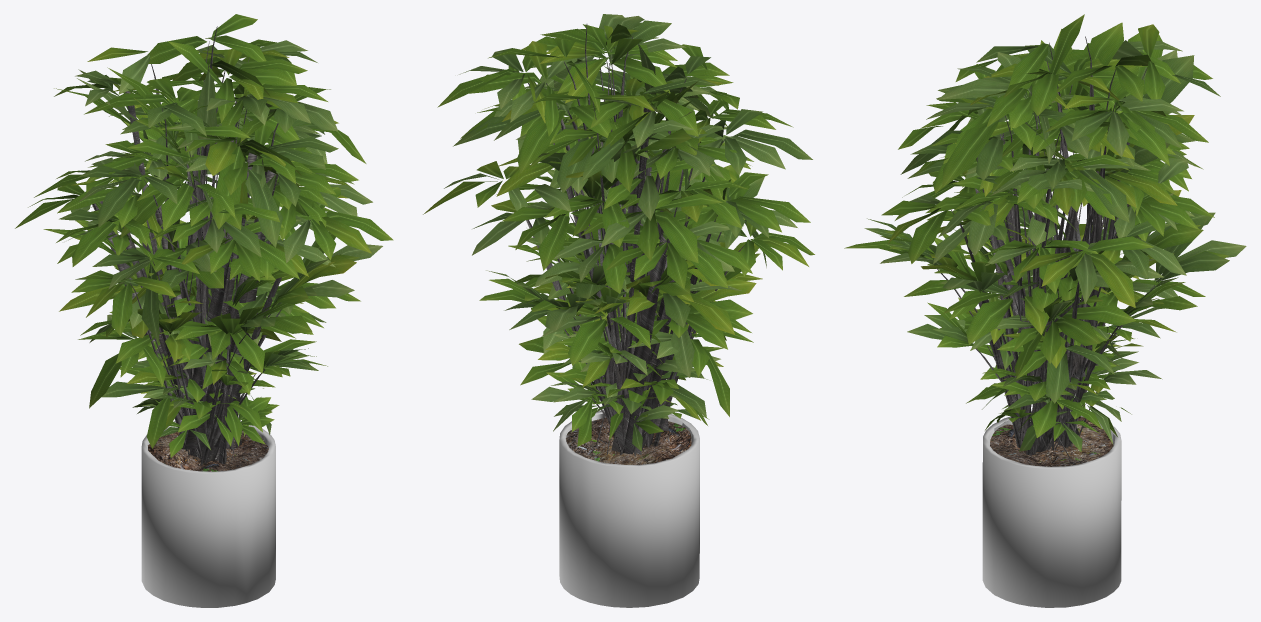
File: plant 2.gltf
The picture shows the model from 3 angles, left to right: view 1: azimuth 30°, elevation 25°; view 2: azimuth 150°, elevation 25°; view 3: azimuth 270°, elevation 25°; orthographic projection. The views are drawn at different scales.
Parts seen in each view (by area): view 1: pln03; view 2: pln03; view 3: pln03.
Part boxes in pixels (bbox=[...]): pln03: bbox=[15, 14, 393, 607]; pln03: bbox=[423, 14, 814, 607]; pln03: bbox=[844, 14, 1246, 607].
Bounding box in the file's own units: 0.728 × 1.18 × 0.7738.
